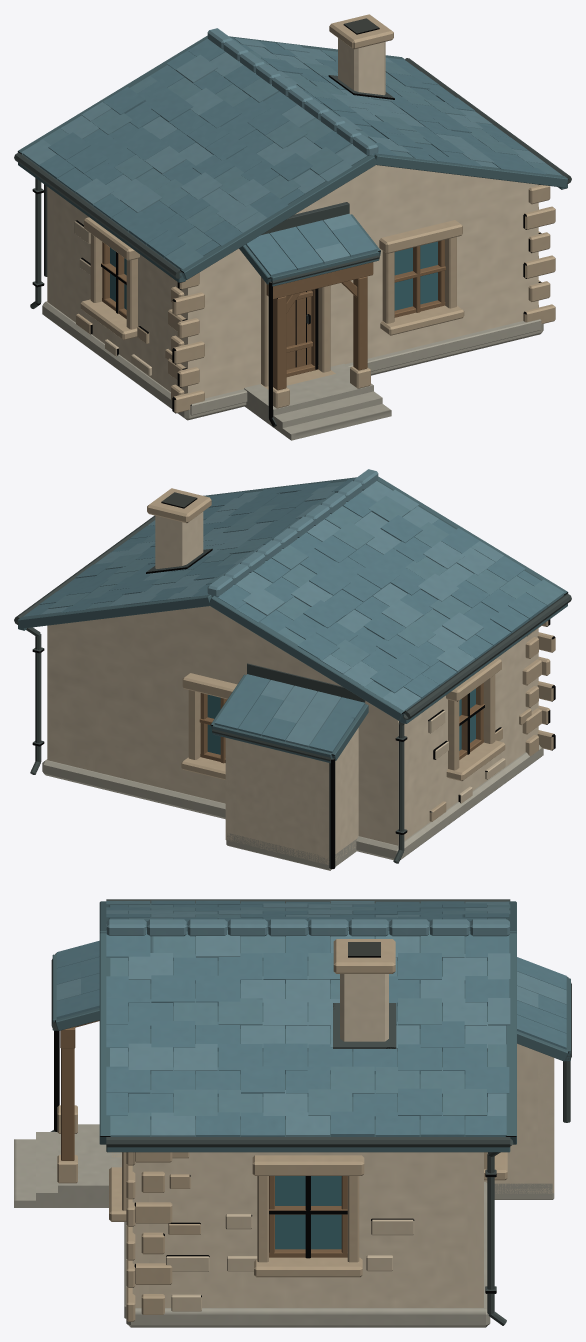
The model's file is cottage-low.glb.
The picture shows the model from 3 angles, top to bottom: view 1: azimuth 30°, elevation 25°; view 2: azimuth 150°, elevation 25°; view 3: azimuth 270°, elevation 25°; orthographic projection. The views are drawn at different scales.
Parts seen in each view (by area): view 1: cottage-low; view 2: cottage-low; view 3: cottage-low.
Boxes of the visible parts, x1=… form: cottage-low: x1=14, y1=14, x2=571, y2=440; cottage-low: x1=14, y1=469, x2=571, y2=870; cottage-low: x1=14, y1=899, x2=571, y2=1327.
Bounding box in the file's own units: 8.31 × 5.22 × 8.1.
Materials: 1 (1 with a texture image).
